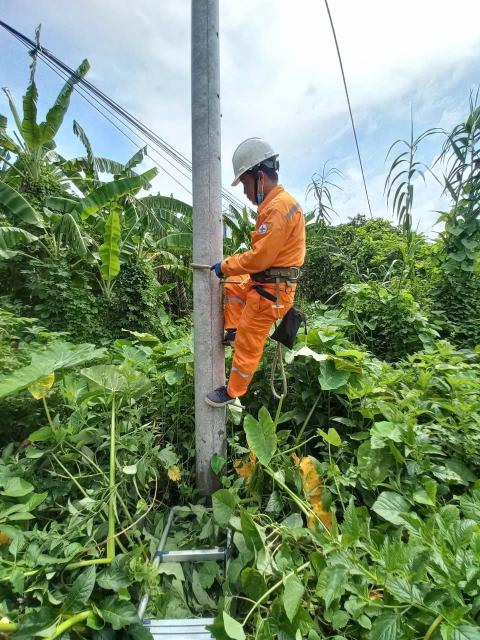gloves: (200, 258, 231, 280)
harness: (246, 257, 306, 293)
helmet: (219, 134, 285, 192)
shoes: (199, 379, 239, 413), (218, 324, 244, 349)
